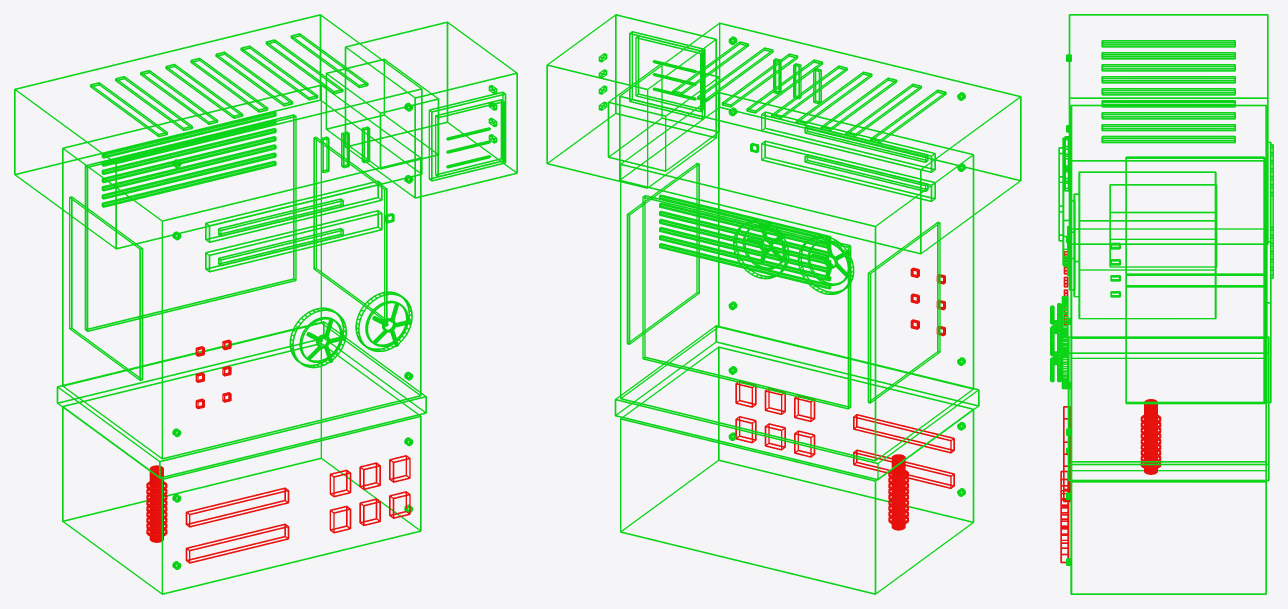
File: asteroid-tracker-highlight-calibration-device.glb
3 views of the same model, side by side, from view 1: azimuth 30°, elevation 25°; view 2: azimuth 150°, elevation 25°; view 3: azimuth 270°, elevation 25° (orthographic). The views are drawn at different scales.
Visible parts, largest first — view 1: chassis technical wire, user-interface technical wire, calibration-device technical wire, data-storage technical wire, cooling-fans technical wire; view 2: chassis technical wire, user-interface technical wire, calibration-device technical wire, data-storage technical wire, cooling-fans technical wire; view 3: chassis technical wire, user-interface technical wire, calibration-device technical wire, cooling-fans technical wire, data-storage technical wire.
Part boxes in pixels (x1,y1,x2,y2): chassis technical wire: (14, 14, 426, 594); user-interface technical wire: (320, 21, 517, 198); calibration-device technical wire: (146, 339, 410, 563); data-storage technical wire: (205, 180, 394, 272); cooling-fans technical wire: (289, 291, 412, 368); chassis technical wire: (614, 22, 1021, 594); user-interface technical wire: (546, 14, 821, 188); calibration-device technical wire: (735, 267, 954, 530); data-storage technical wire: (750, 111, 935, 201); cooling-fans technical wire: (733, 219, 854, 294); chassis technical wire: (1066, 14, 1273, 594); user-interface technical wire: (1064, 136, 1217, 319); calibration-device technical wire: (1060, 251, 1161, 563); cooling-fans technical wire: (1050, 296, 1068, 389); data-storage technical wire: (1058, 137, 1068, 267).
Size of the model in its own units: 2.6 by 2.72 by 1.26.
